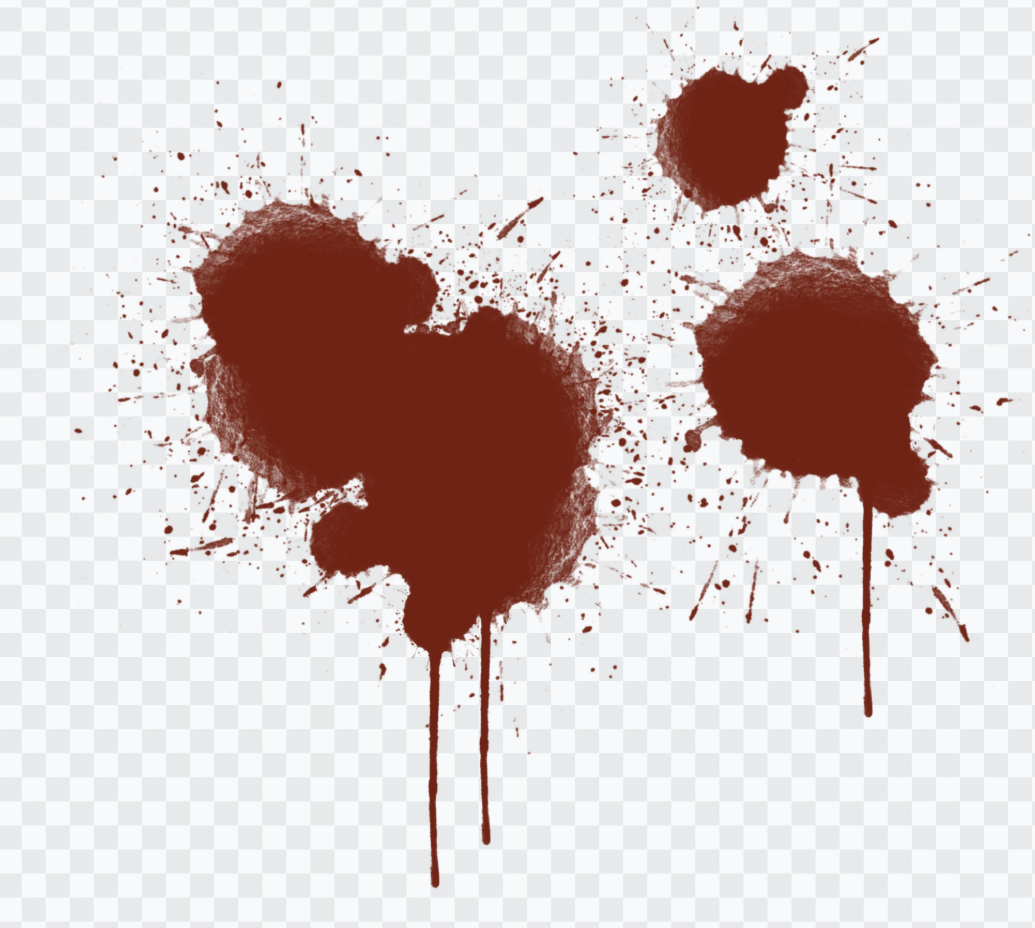blood_8.png: (121, 55, 965, 907)
